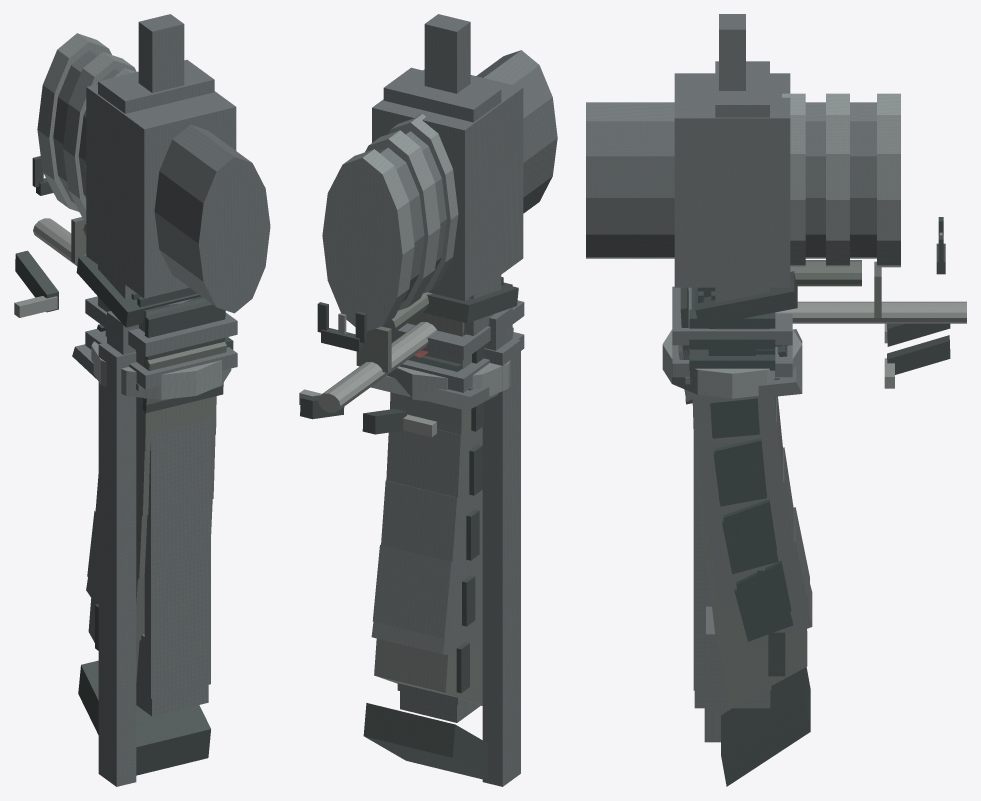
File: weapon_rpk74m.glb
3 renders of one model, left to right at view 1: azimuth 30°, elevation 25°; view 2: azimuth 150°, elevation 25°; view 3: azimuth 270°, elevation 25°, orthographic.
Parts seen in each view (by area): view 1: weapon_rpk74m__L0_mount_optic__scope6, weapon_rpk74m__L0_handguard_grip__fore_bail, weapon_rpk74m__L1_mount_optic__prism2, weapon_rpk74m__L0_mount__ak_mount, weapon_rpk74m__L0_mount_optic__prism2, weapon_rpk74m__L1_mount_optic__scope6, weapon_rpk74m__L0_magazine__ak545_window_30, weapon_rpk74m__L1_mount__ak_mount, weapon_rpk74m__L1_magazine__ak545_window_30, weapon_rpk74m__L0_body, weapon_rpk74m__L0_mount_optic__scope4, weapon_rpk74m__L0_stock__rpk_stock (+18 smaller); view 2: weapon_rpk74m__L0_mount_optic__scope6, weapon_rpk74m__L0_mount_optic__prism2, weapon_rpk74m__L1_mount__ak_mount, weapon_rpk74m__L0_magazine__ak545_30, weapon_rpk74m__L1_mount_optic__prism2, weapon_rpk74m__L1_mount_optic__scope6, weapon_rpk74m__L1_magazine__ak545_30, weapon_rpk74m__L0_magazine__ak545_window_30, weapon_rpk74m__L1_magazine__ak545_window_30, weapon_rpk74m__L0_mount__ak_mount, weapon_rpk74m__L0_body, weapon_rpk74m__L1_body (+17 smaller); view 3: weapon_rpk74m__L0_mount_optic__prism2, weapon_rpk74m__L0_mount_optic__scope6, weapon_rpk74m__L1_mount_optic__prism2, weapon_rpk74m__L0_magazine__ak545_window_30, weapon_rpk74m__L1_magazine__ak545_window_30, weapon_rpk74m__L0_mount_optic__scope4, weapon_rpk74m__L0_body, weapon_rpk74m__L0_magazine__ak545_45, weapon_rpk74m__L1_magazine__ak545_45, weapon_rpk74m__L1_magazine__ak545_30, weapon_rpk74m__L1_mount_optic__scope6, weapon_rpk74m__L0_magazine__ak545_30 (+19 smaller).
Boxes of the visible parts, x1,y1,x2,y2 form: weapon_rpk74m__L0_mount_optic__scope6: (38, 33, 268, 310); weapon_rpk74m__L0_handguard_grip__fore_bail: (136, 420, 209, 711); weapon_rpk74m__L1_mount_optic__prism2: (63, 52, 236, 298); weapon_rpk74m__L0_mount__ak_mount: (98, 316, 138, 782); weapon_rpk74m__L0_mount_optic__prism2: (63, 52, 234, 295); weapon_rpk74m__L1_mount_optic__scope6: (37, 33, 270, 313); weapon_rpk74m__L0_magazine__ak545_window_30: (79, 396, 215, 773); weapon_rpk74m__L1_mount__ak_mount: (98, 311, 138, 786); weapon_rpk74m__L1_magazine__ak545_window_30: (78, 396, 216, 775); weapon_rpk74m__L0_body: (14, 156, 189, 316); weapon_rpk74m__L0_mount_optic__scope4: (78, 69, 226, 284); weapon_rpk74m__L0_stock__rpk_stock: (136, 304, 225, 412); weapon_rpk74m__L0_mount_optic__scope6: (323, 50, 557, 328); weapon_rpk74m__L0_mount_optic__prism2: (368, 75, 522, 306); weapon_rpk74m__L1_mount__ak_mount: (482, 307, 520, 786); weapon_rpk74m__L0_magazine__ak545_30: (375, 392, 482, 645); weapon_rpk74m__L1_mount_optic__prism2: (365, 69, 523, 310); weapon_rpk74m__L1_mount_optic__scope6: (322, 50, 557, 331); weapon_rpk74m__L1_magazine__ak545_30: (372, 322, 482, 646); weapon_rpk74m__L0_magazine__ak545_window_30: (365, 349, 487, 775); weapon_rpk74m__L1_magazine__ak545_window_30: (363, 345, 487, 779); weapon_rpk74m__L0_mount__ak_mount: (483, 312, 520, 782); weapon_rpk74m__L0_body: (300, 293, 436, 435); weapon_rpk74m__L1_body: (299, 292, 436, 437); weapon_rpk74m__L0_mount_optic__prism2: (665, 74, 848, 284); weapon_rpk74m__L0_mount_optic__scope6: (587, 93, 899, 267); weapon_rpk74m__L1_mount_optic__prism2: (664, 73, 849, 287); weapon_rpk74m__L0_magazine__ak545_window_30: (693, 399, 810, 784); weapon_rpk74m__L1_magazine__ak545_window_30: (692, 397, 810, 786); weapon_rpk74m__L0_mount_optic__scope4: (636, 102, 825, 258); weapon_rpk74m__L0_body: (698, 218, 966, 387); weapon_rpk74m__L0_magazine__ak545_45: (694, 395, 811, 652); weapon_rpk74m__L1_magazine__ak545_45: (693, 328, 812, 641); weapon_rpk74m__L1_magazine__ak545_30: (693, 349, 809, 612); weapon_rpk74m__L1_mount_optic__scope6: (586, 93, 900, 267); weapon_rpk74m__L0_magazine__ak545_30: (694, 328, 808, 615).
Bounding box in the file's own units: 1.86 × 10.04 × 4.66.
Materials: 3 (3 with a texture image).
